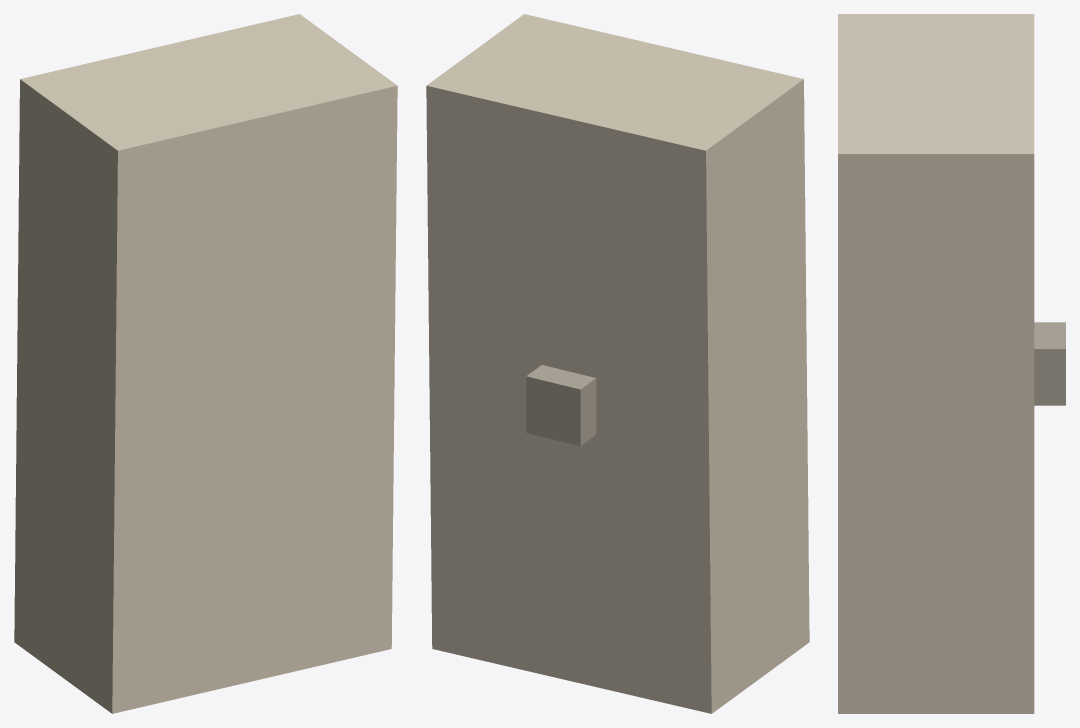
The model's file is historic-palestine-05_12_3470_3067.glb.
3 views of the same model, side by side, from view 1: azimuth 30°, elevation 25°; view 2: azimuth 150°, elevation 25°; view 3: azimuth 270°, elevation 25° (orthographic).
Visible parts, largest first — view 1: Building_; view 2: Building_, Roof access hut; view 3: Building_, Roof access hut.
Boxes of the visible parts, x1,y1,x2,y2 form: Building_: (14,14,397,713); Building_: (426,14,809,713); Roof access hut: (526,365,596,446); Building_: (838,14,1034,713); Roof access hut: (1034,322,1065,405).
Size of the model in its own units: 12.61 by 23.87 by 8.7.
